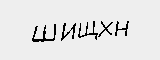И: (59, 19, 76, 44)
Н: (113, 18, 129, 41)
Х: (98, 18, 113, 40)
Ш: (30, 23, 57, 46)
Щ: (78, 20, 98, 39)
